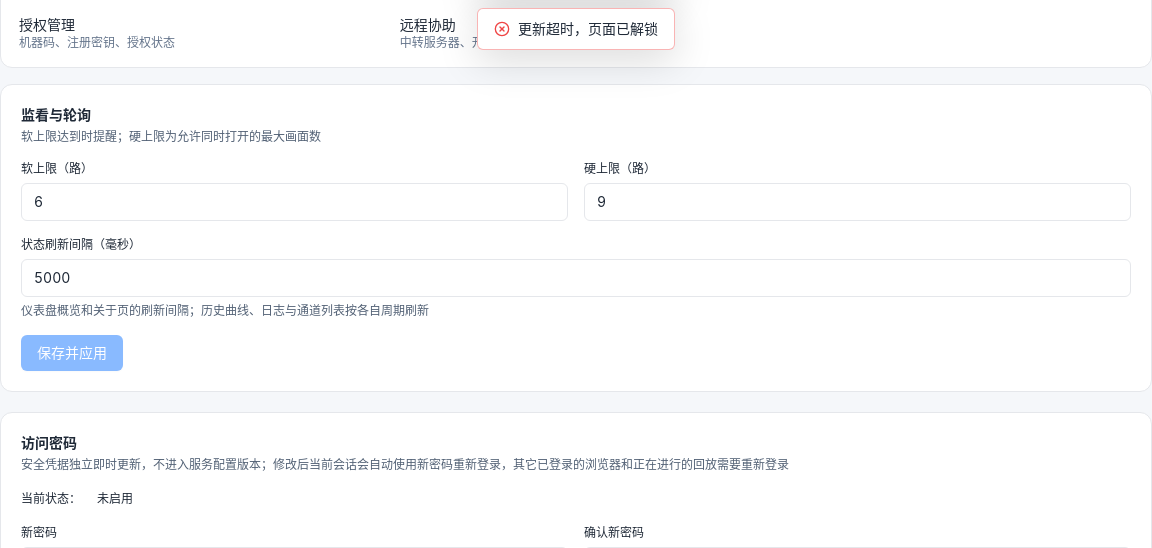
自动保存应用 › unlocks after network failure instead of an endless spinner
(page scrolled)
Expected: the heading "监看与轮询" is shown, x1=21 y1=106 x2=91 y2=123
Replace the text in the number field showing "6" with "5" at [294, 202], box x1=21 y1=183 x2=568 y2=221
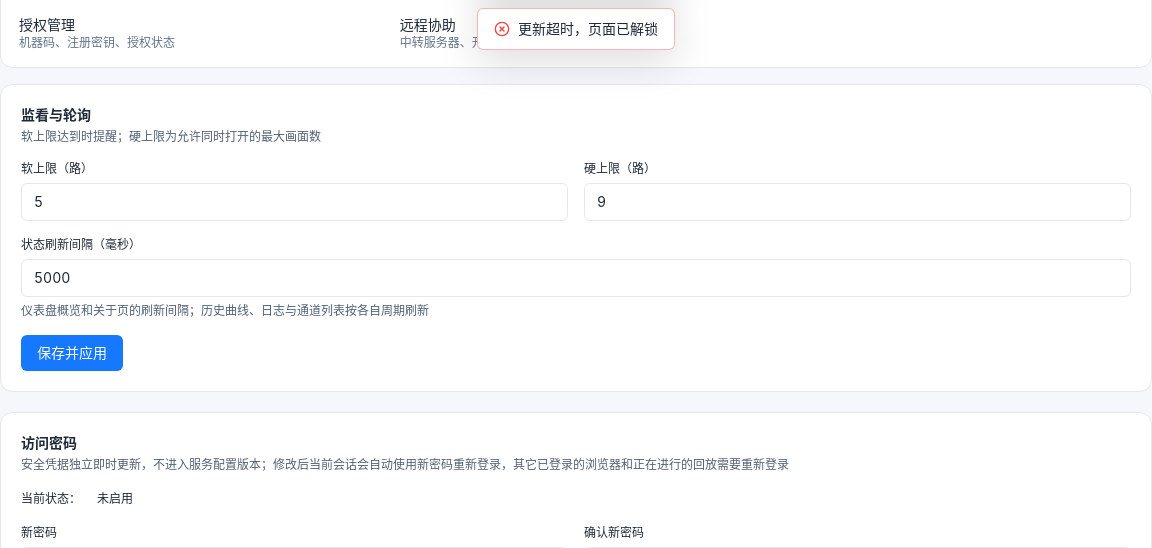
Click the button "保存并应用" at [72, 353], box x1=21 y1=335 x2=123 y2=371
(page scrolled)
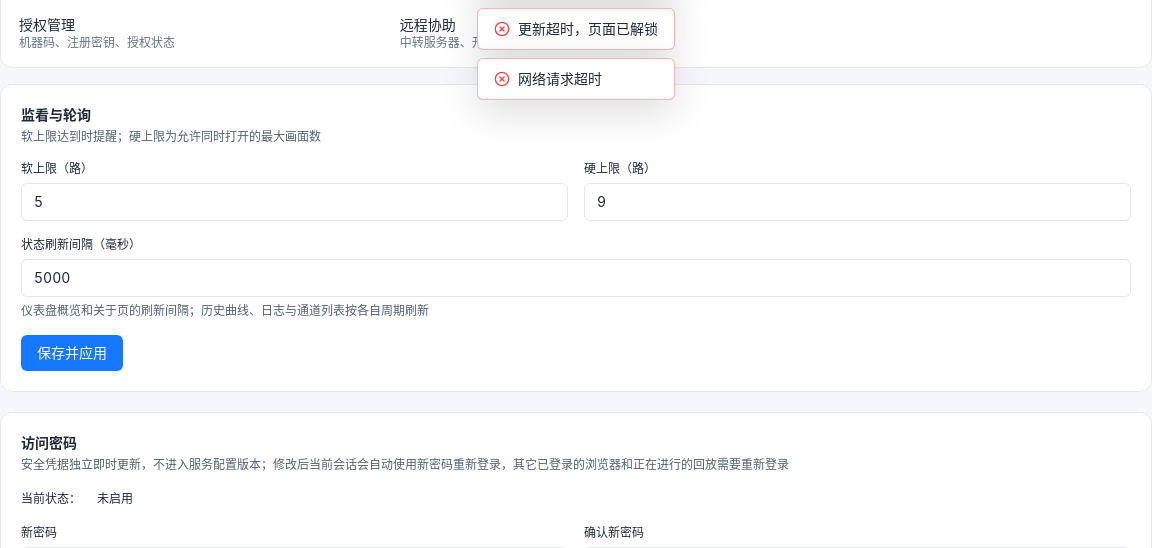
Expected: the text "网络请求超时" is shown, x1=518 y1=69 x2=602 y2=89
